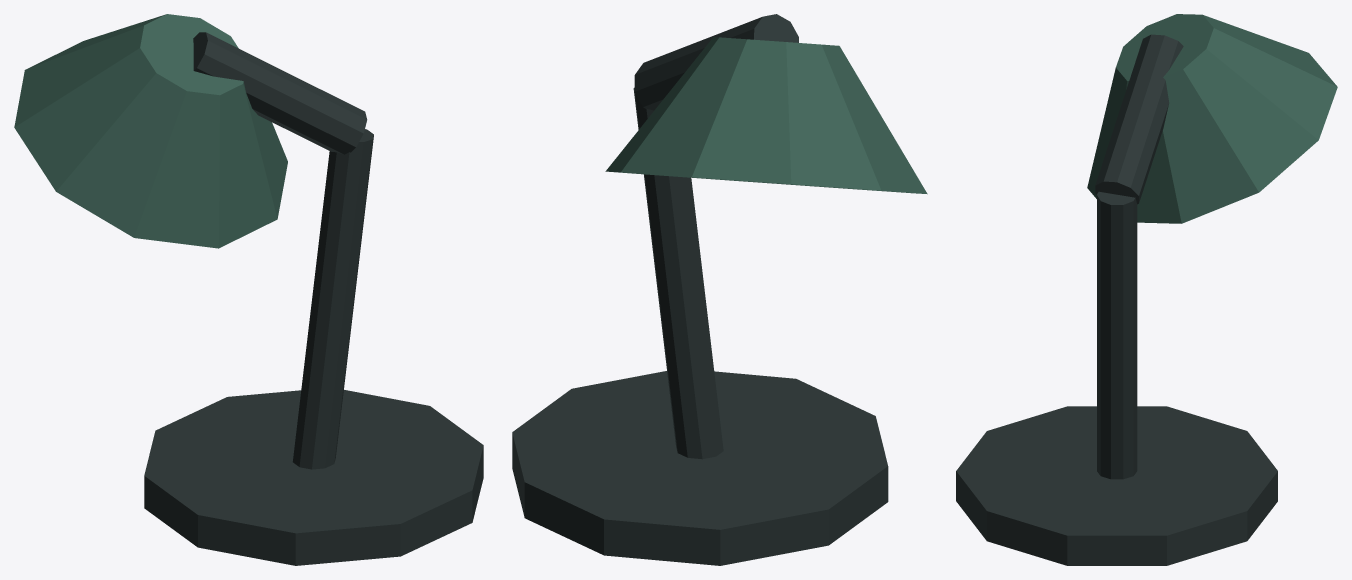
Rendered from desk_lamp.glb.
The picture shows the model from 3 angles, left to right: view 1: azimuth 30°, elevation 25°; view 2: azimuth 150°, elevation 25°; view 3: azimuth 270°, elevation 25°; orthographic projection. The views are drawn at different scales.
Parts seen in each view (by area): view 1: desk_lamp; view 2: desk_lamp; view 3: desk_lamp.
Boxes of the visible parts, x1,y1,x2,y2 form: desk_lamp: (14, 14, 483, 565); desk_lamp: (512, 14, 927, 565); desk_lamp: (956, 14, 1337, 565).
Bounding box in the file's own units: 0.3365 × 0.3984 × 0.3201.
